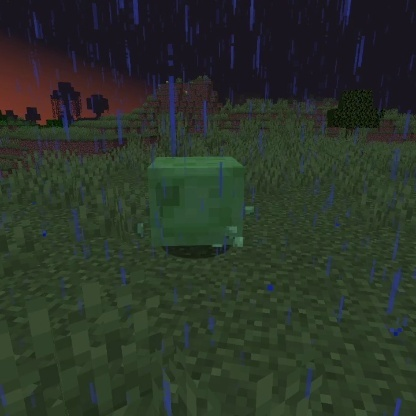slime: (141, 153, 251, 253)
